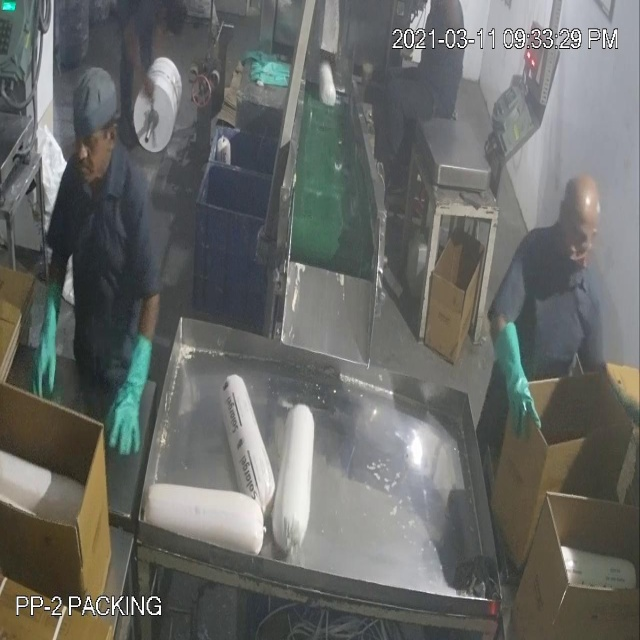Guantes: (490, 308, 542, 447), (106, 332, 158, 459)
